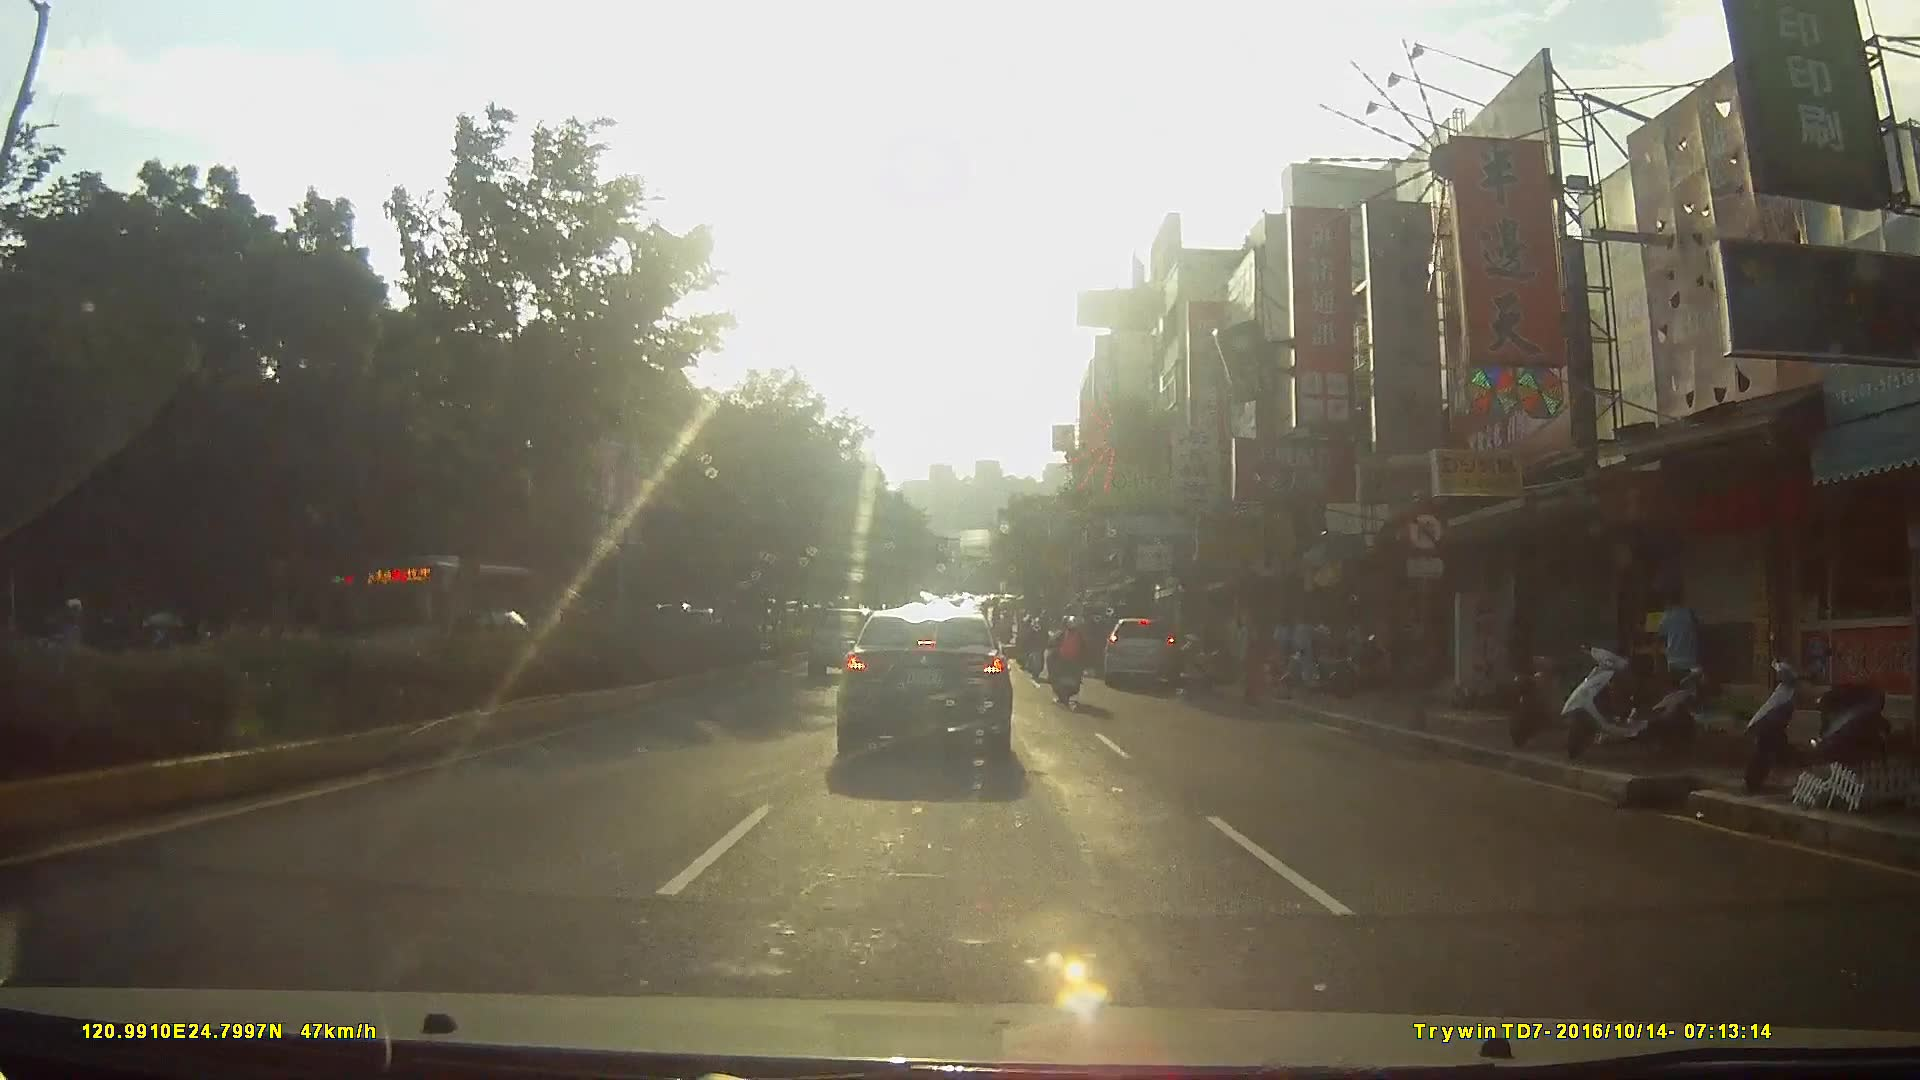pedestrian: (1647, 585, 1702, 715)
rider: (1052, 606, 1096, 703), (1019, 608, 1049, 677)
vehicle: (832, 589, 1032, 760), (347, 545, 550, 652), (1102, 607, 1191, 692)
